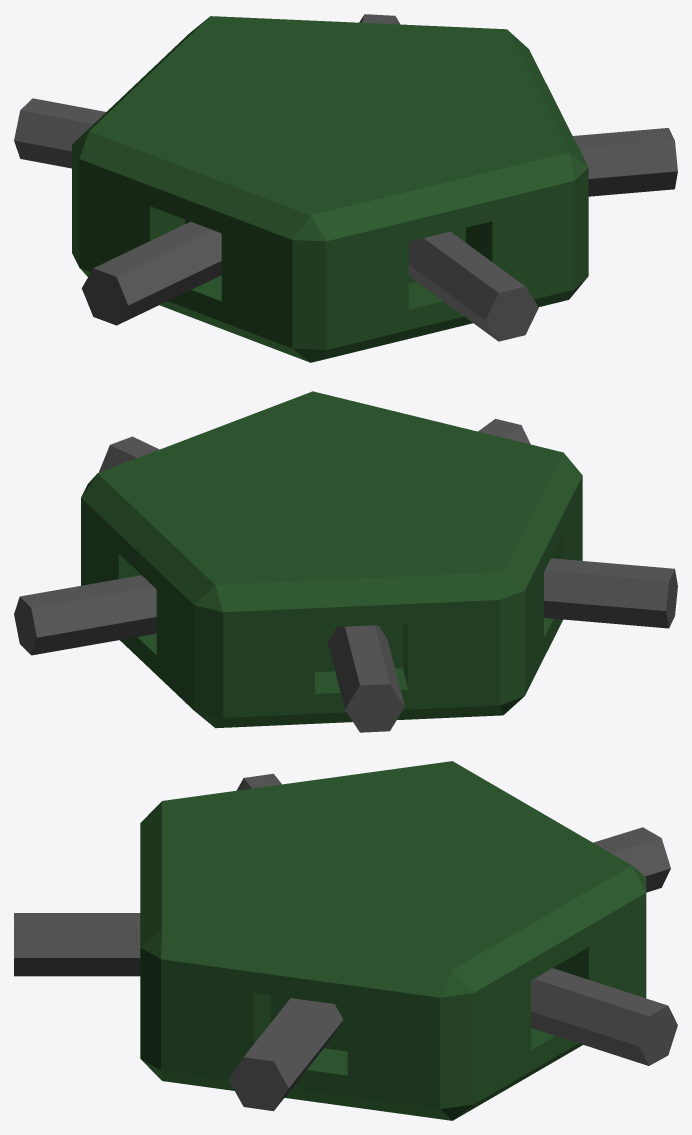
File: StarShooter.fbx
The picture shows the model from 3 angles, top to bottom: view 1: azimuth 30°, elevation 25°; view 2: azimuth 150°, elevation 25°; view 3: azimuth 270°, elevation 25°; orthographic projection. The views are drawn at different scales.
Visible parts, largest first — view 1: StarShooter; view 2: StarShooter; view 3: StarShooter.
Boxes of the visible parts, box(x1,y1,x2,y2) form: StarShooter: box(14, 14, 677, 362); StarShooter: box(14, 391, 677, 732); StarShooter: box(14, 761, 677, 1120).
Size of the model in its own units: 180 by 43.36 by 173.
